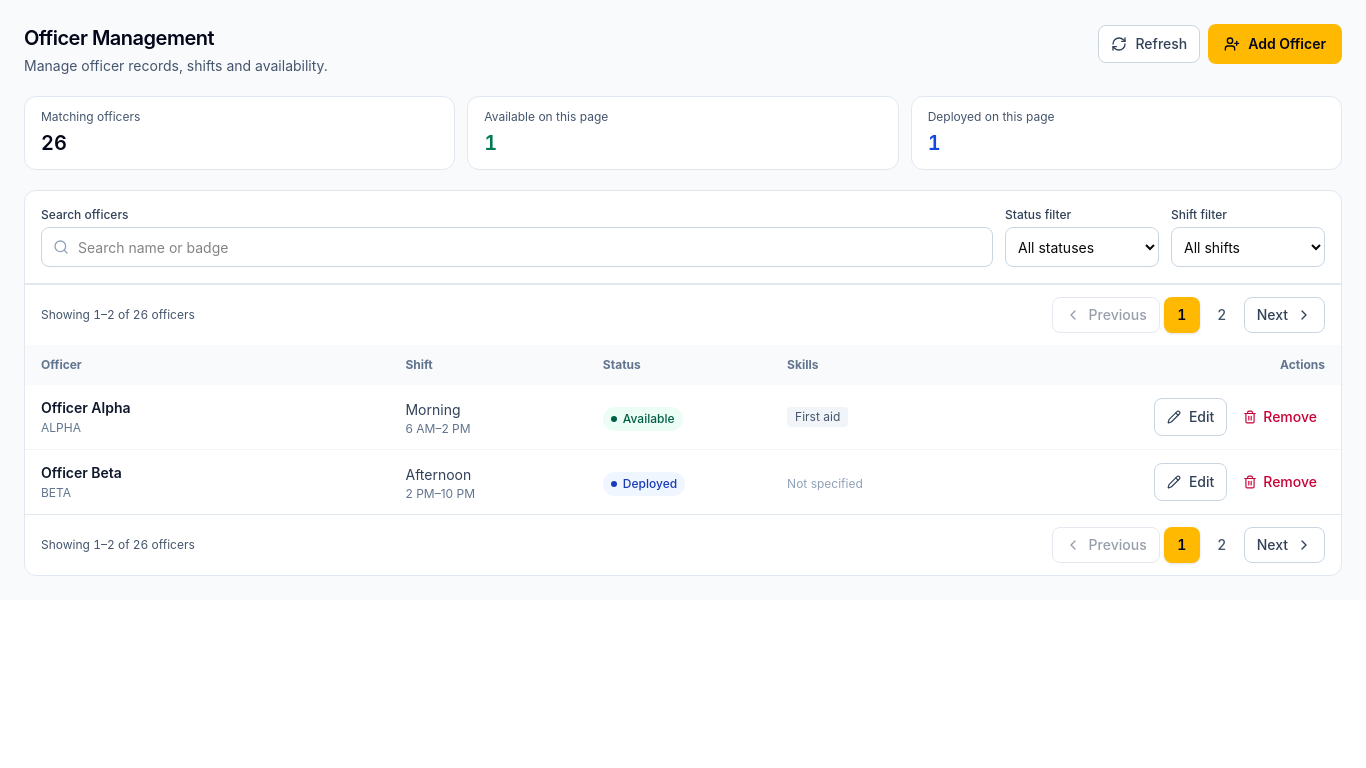
keeps search and filters together, resets pagination, and clears all filters
Expected: the button with aria-label "Edit Officer Alpha" is shown, [1154, 398, 1227, 436]
Expected: the heading "Officer Management" is shown, [24, 26, 214, 50]
Click the button with aria-label "Next page".
click(1284, 315)  # box [1244, 297, 1325, 333]
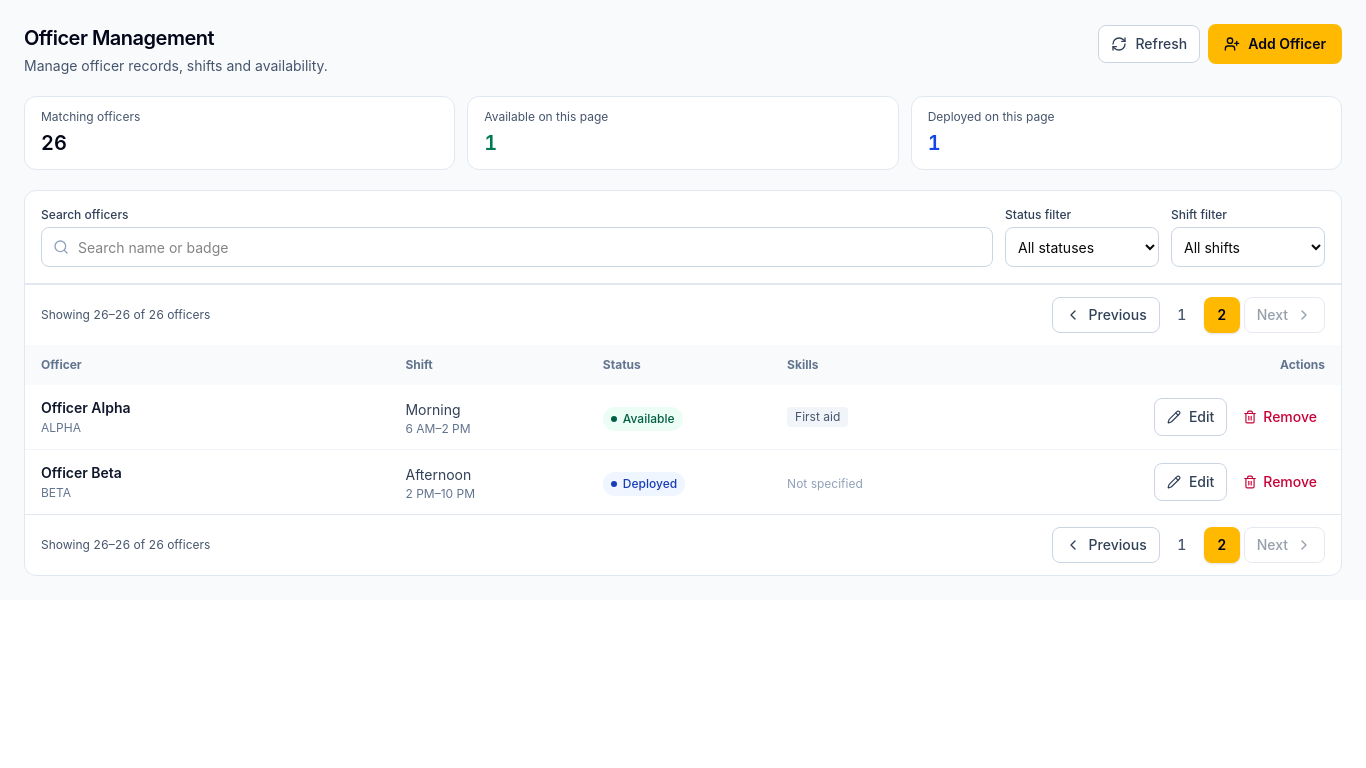
Select "Available" in the dropdown labelled "Status filter" at [1082, 247], box [1005, 227, 1159, 267]
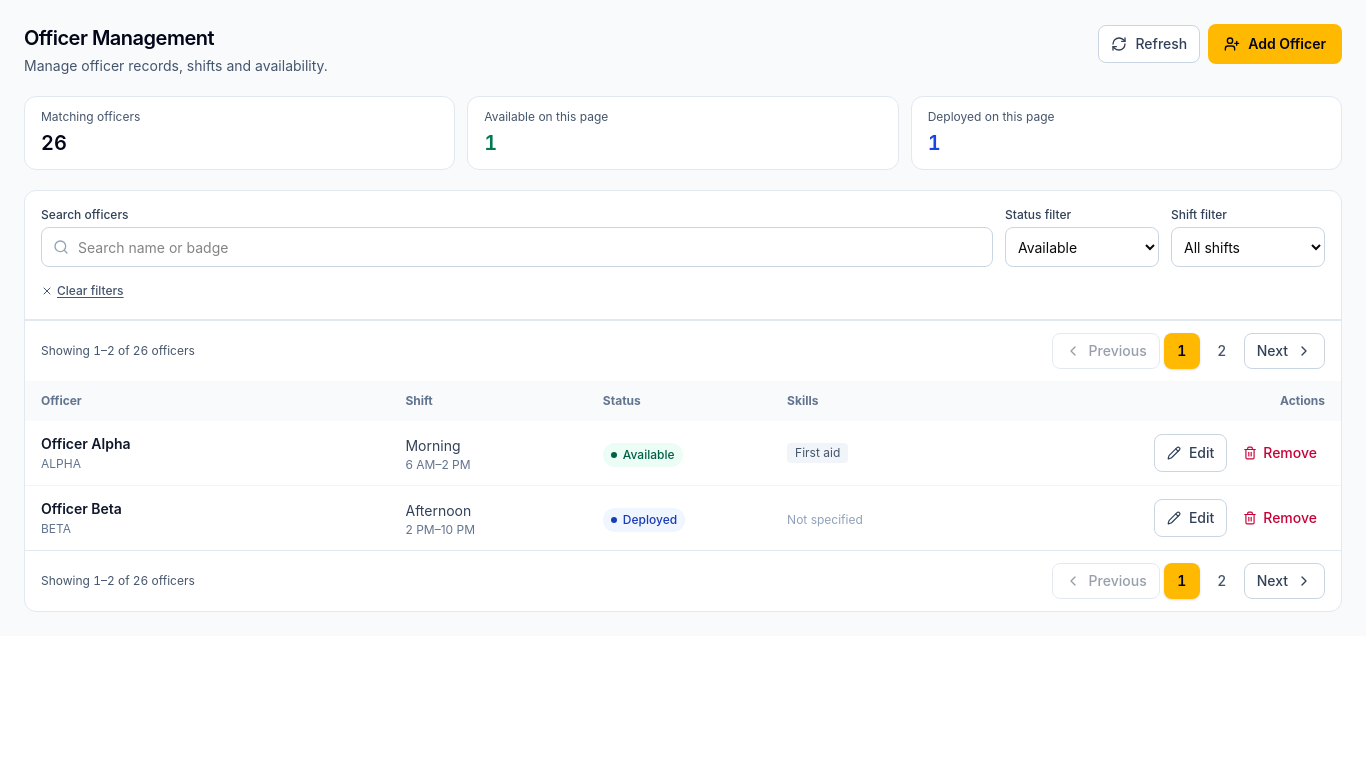
Select "Morning" in the dropdown labelled "Shift filter" at [1248, 247], box [1171, 227, 1325, 267]
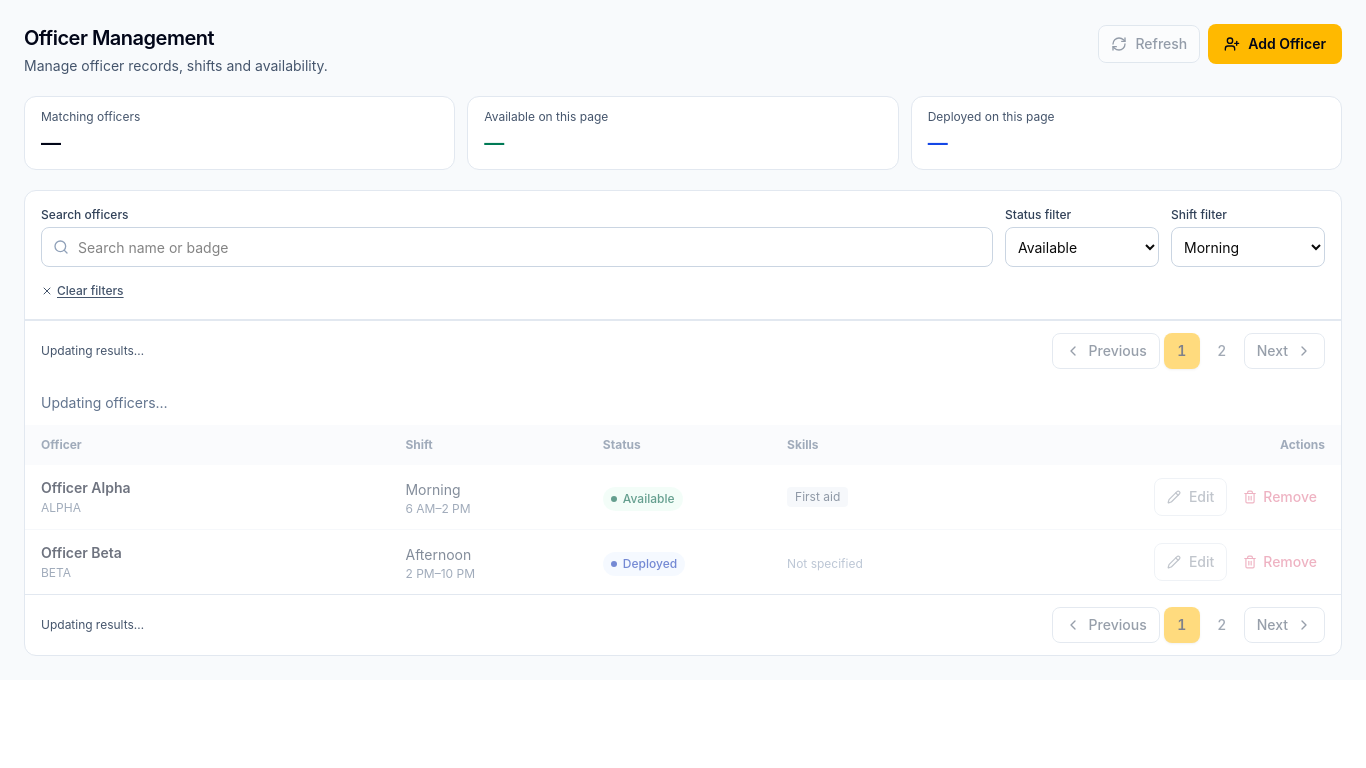
Type "ALPHA" into the search field labelled "Search officers".
click(517, 247); type("ALPHA")  # box [41, 227, 993, 267]
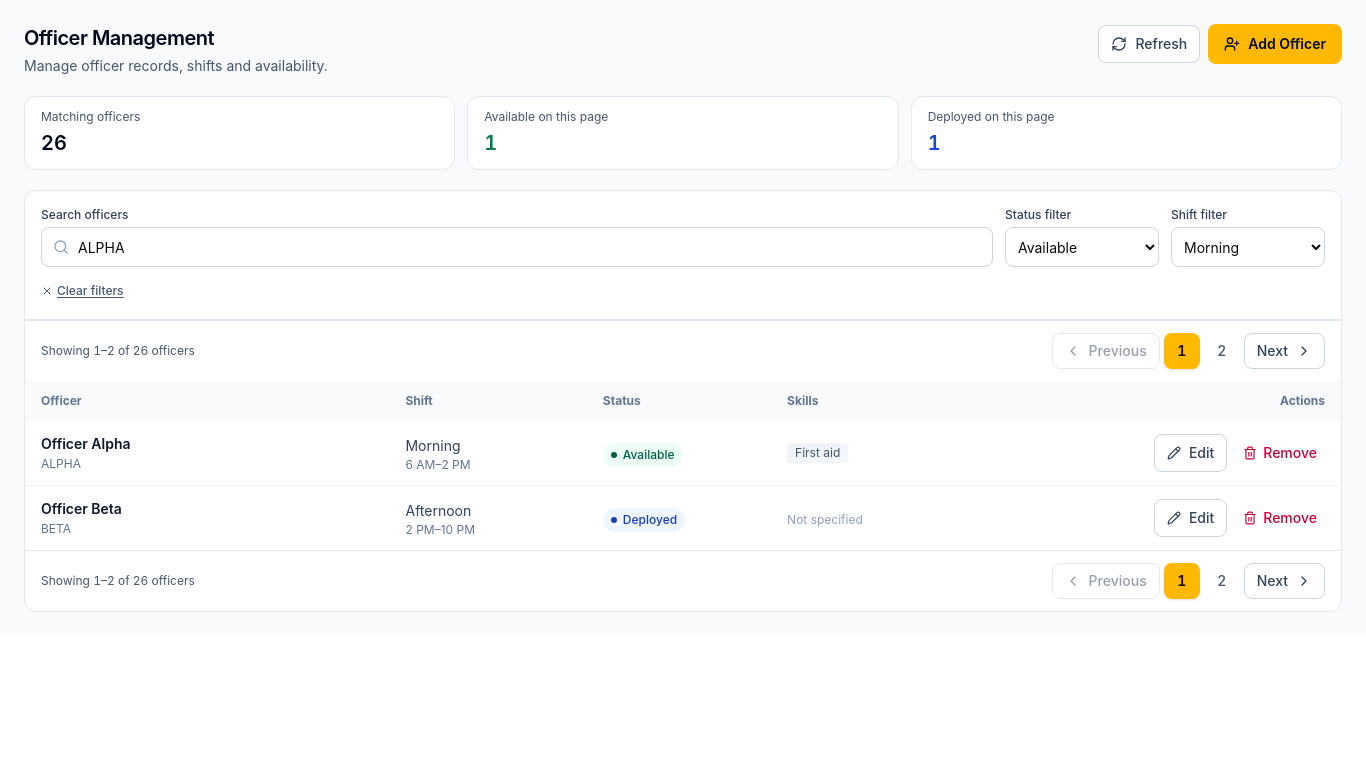
Click the button "Clear filters".
click(82, 291)  # box [41, 283, 124, 299]
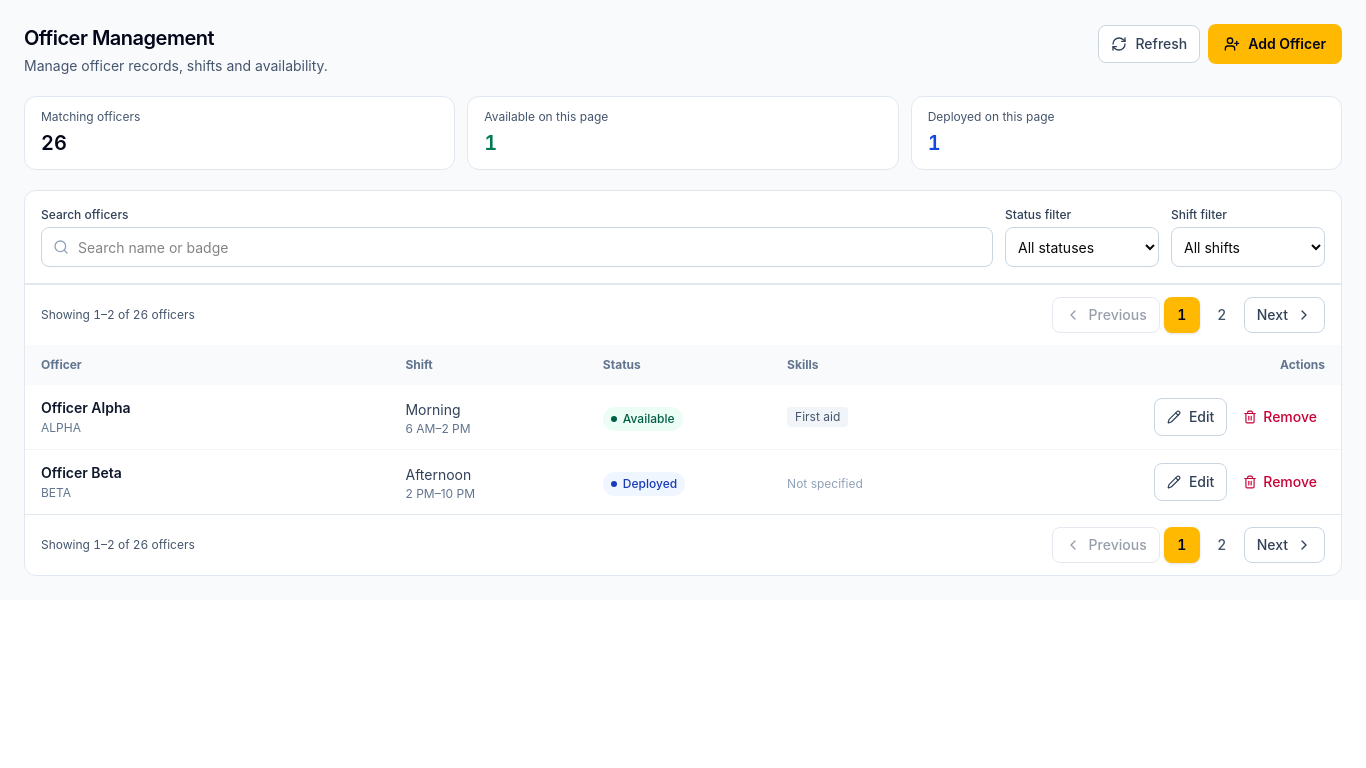
Expected: the button with aria-label "Previous page" is disabled, [1052, 297, 1160, 333]
Expected: the search field labelled "Search officers" is empty, [41, 227, 993, 267]
